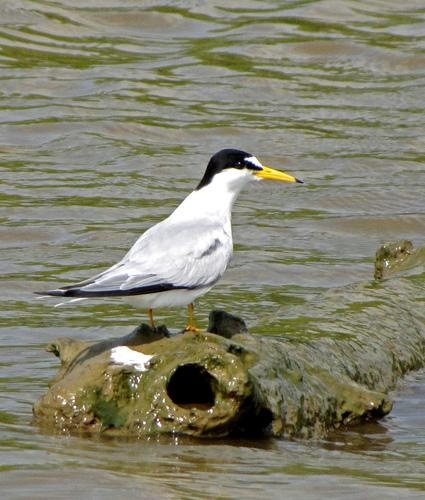bird: (33, 146, 303, 330)
